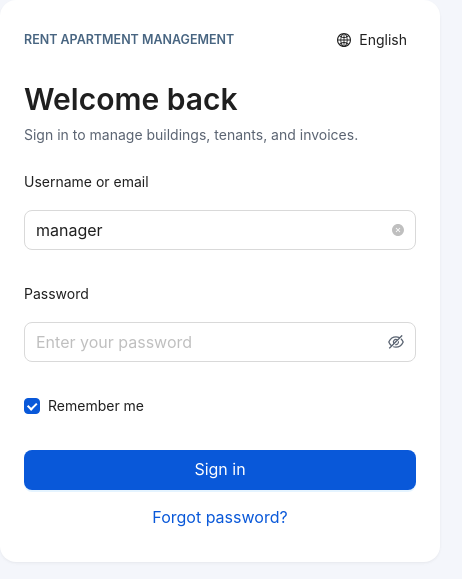
Test: LoginForm › updates the primary form language immediately
The image size is (462, 579).
Step 1. Click the button with aria-label "Language" → (372,40), box x1=328 y1=24 x2=416 y2=56
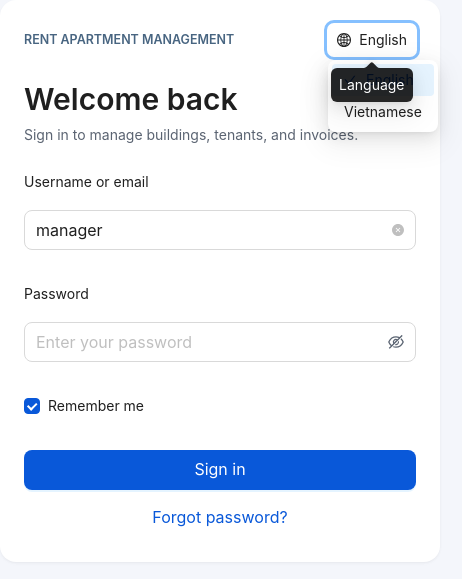
Step 2. Click the menu item "Vietnamese" → (383,112), box x1=344 y1=103 x2=422 y2=120
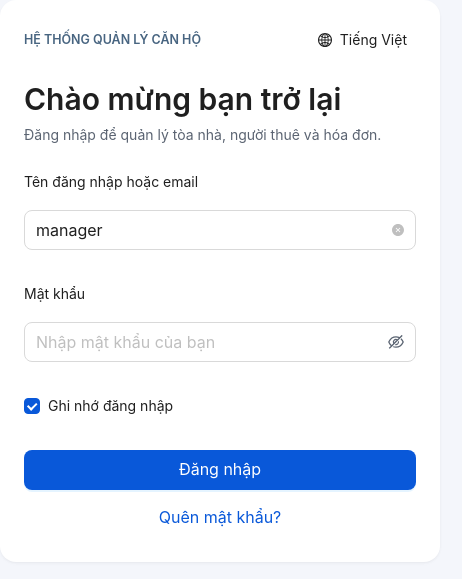
Expected: the button "Đăng nhập" is shown, x1=24 y1=450 x2=416 y2=490
Expected: the password field labelled "Mật khẩu" is shown, x1=36 y1=330 x2=384 y2=354
